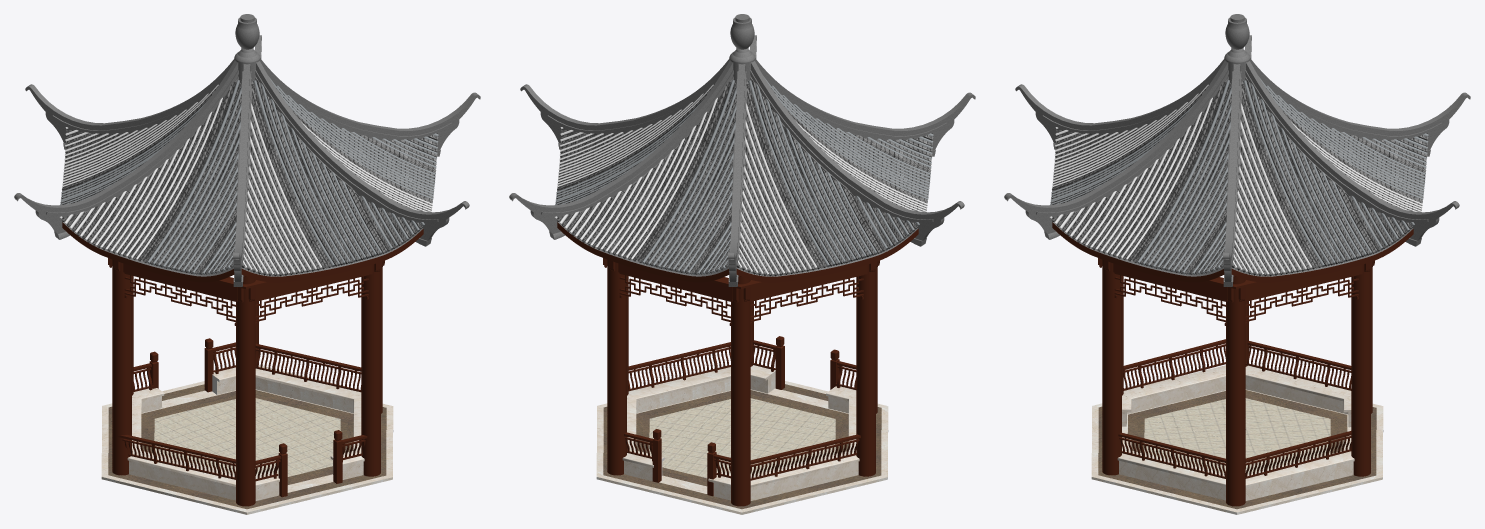
The model's file is 湖心亭（空）.fbx.
The picture shows the model from 3 angles, left to right: view 1: azimuth 30°, elevation 25°; view 2: azimuth 150°, elevation 25°; view 3: azimuth 270°, elevation 25°; orthographic projection.
Visible parts, largest first — view 1: G-Object.238, G-Object.267, 地板, 立柱, G-Object.240, G-Object.237, _G-Object.013 (Loose Mesh), C-组#1477.004, C-组#1477, G-Object.014, C-组#1477.002, C-组#1477.003 (+10 smaller); view 2: G-Object.237, G-Object.239, 地板, 立柱, G-Object.267, G-Object.236, _G-Object.013 (Loose Mesh), C-组#1477, C-组#1477.005, G-Object.015, C-组#1477.001, C-组#1477.002 (+9 smaller); view 3: G-Object.236, G-Object.240, 地板, 立柱, G-Object.239, G-Object.238, _G-Object.013 (Loose Mesh), C-组#1477.005, C-组#1477.004, C-组#1477.003, G-Object.015, G-Object.014 (+13 smaller).
Boxes of the visible parts, bbox=[...] form: G-Object.238: bbox=[241, 80, 425, 282]; G-Object.267: bbox=[60, 80, 241, 282]; 地板: bbox=[101, 381, 393, 514]; 立柱: bbox=[112, 259, 382, 506]; G-Object.240: bbox=[269, 77, 438, 212]; G-Object.237: bbox=[60, 84, 219, 204]; _G-Object.013 (Loose Mesh): bbox=[212, 365, 364, 479]; C-组#1477.004: bbox=[255, 61, 469, 246]; C-组#1477: bbox=[14, 60, 238, 239]; G-Object.014: bbox=[127, 450, 279, 500]; C-组#1477.002: bbox=[260, 59, 480, 156]; C-组#1477.003: bbox=[25, 58, 234, 149]; G-Object.237: bbox=[736, 80, 920, 282]; G-Object.239: bbox=[555, 80, 736, 282]; 地板: bbox=[596, 381, 888, 514]; 立柱: bbox=[607, 259, 877, 506]; G-Object.267: bbox=[764, 77, 933, 212]; G-Object.236: bbox=[555, 84, 714, 204]; _G-Object.013 (Loose Mesh): bbox=[622, 365, 775, 481]; C-组#1477: bbox=[750, 61, 964, 246]; C-组#1477.005: bbox=[509, 60, 733, 239]; G-Object.015: bbox=[708, 451, 859, 500]; C-组#1477.001: bbox=[755, 59, 975, 156]; C-组#1477.002: bbox=[520, 58, 729, 149]; G-Object.236: bbox=[1231, 80, 1415, 282]; G-Object.240: bbox=[1050, 80, 1231, 282]; 地板: bbox=[1091, 389, 1383, 514]; 立柱: bbox=[1102, 259, 1372, 506]; G-Object.239: bbox=[1259, 77, 1428, 212]; G-Object.238: bbox=[1050, 84, 1209, 204]; _G-Object.013 (Loose Mesh): bbox=[1117, 436, 1354, 500]; C-组#1477.005: bbox=[1245, 61, 1459, 246]; C-组#1477.004: bbox=[1004, 60, 1228, 239]; C-组#1477.003: bbox=[1250, 59, 1470, 156]; G-Object.015: bbox=[1245, 365, 1351, 426]; G-Object.014: bbox=[1122, 365, 1225, 426].
Bounding box in the file's own units: 784 × 707 × 700.
11 materials, 6 textured.
